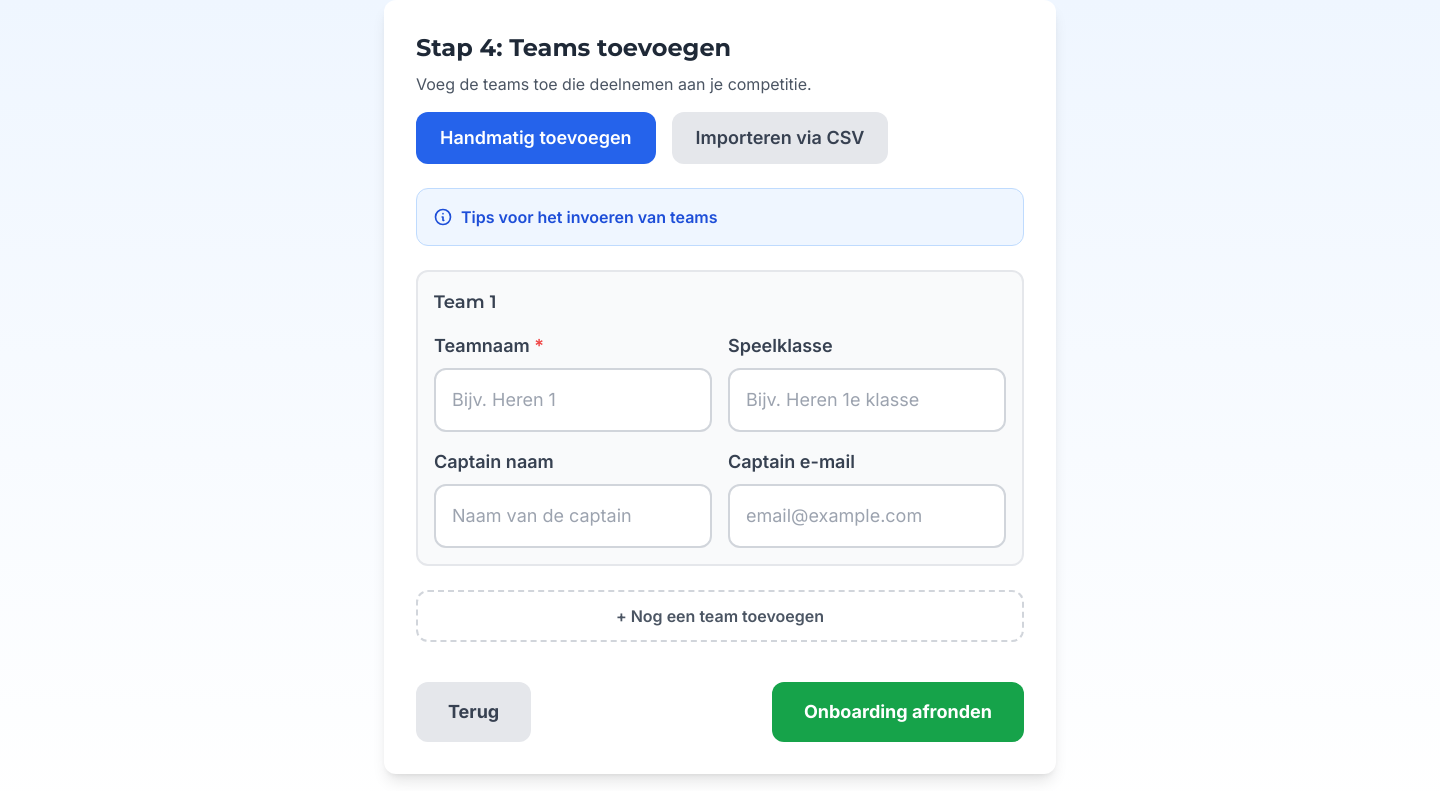
it: TeamsStep › Validation › should show error for each team with empty name
Click the button "+ Nog een team toevoegen".
click(720, 616)  # box [416,590,1024,642]
(page scrolled)
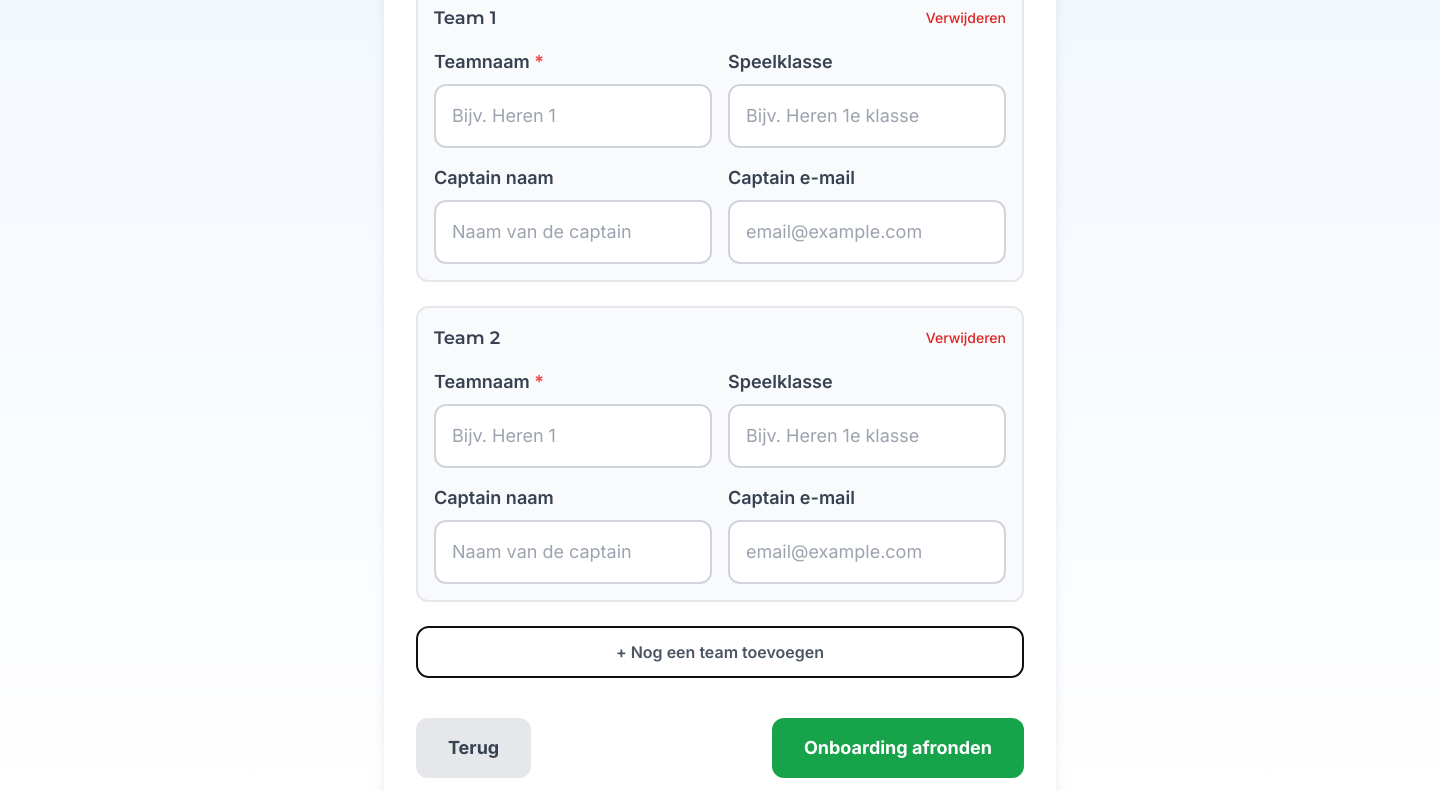
Click the button "Onboarding afronden".
click(898, 748)  # box [772,718,1024,778]
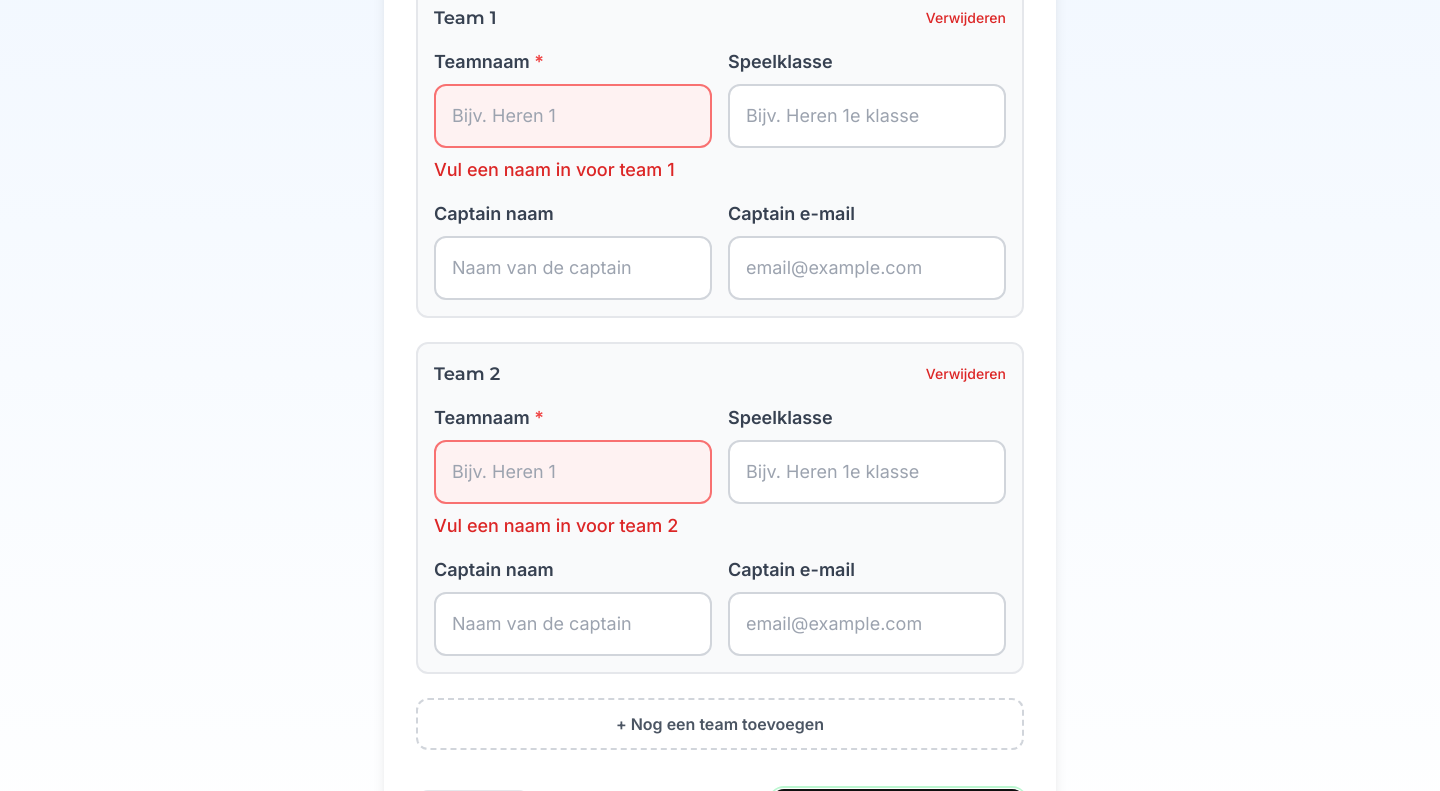
Expected: the text "Vul een naam in voor team 1" is shown, [434,156,712,184]
Expected: the text "Vul een naam in voor team 2" is shown, [434,512,712,540]
